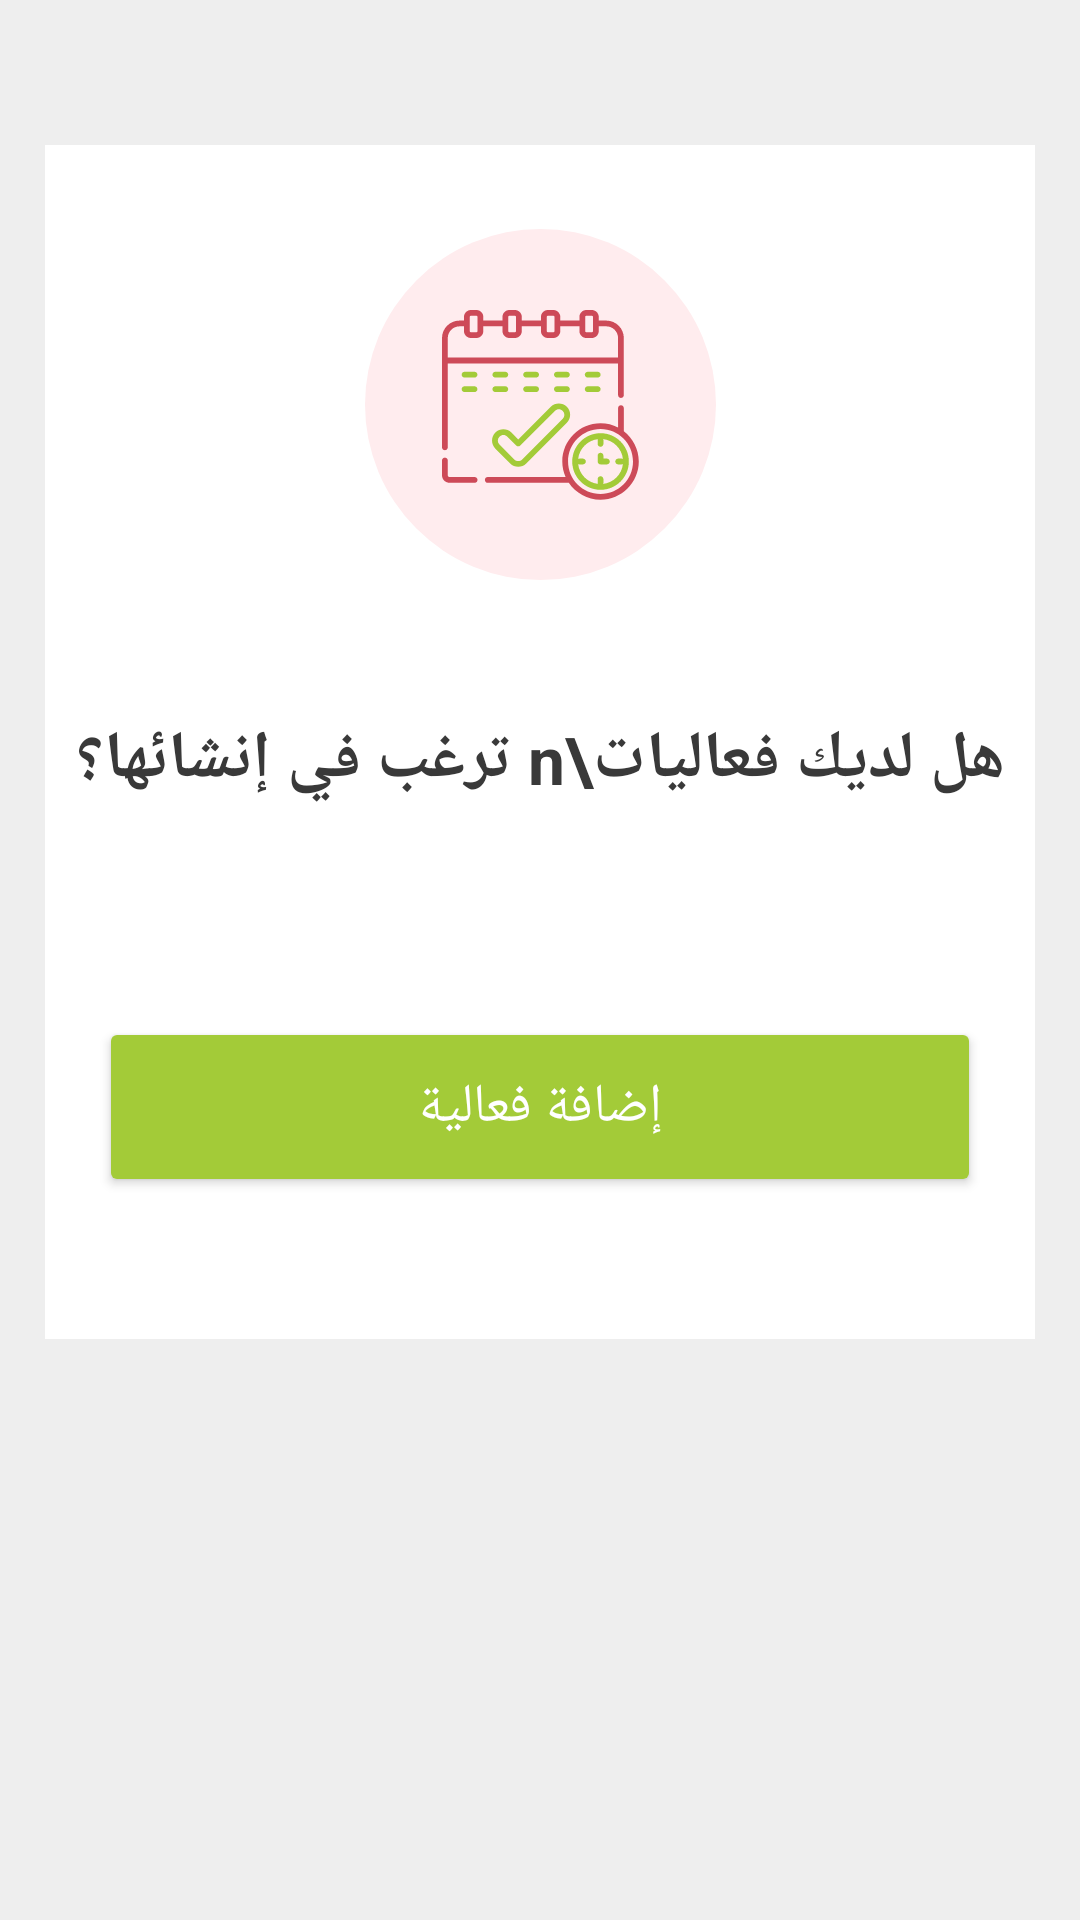

Where icons sit on this 1080 x 1920 app screen, as detection(x1, y1, x2, y2):
calendar: detection(442, 310, 639, 500)
